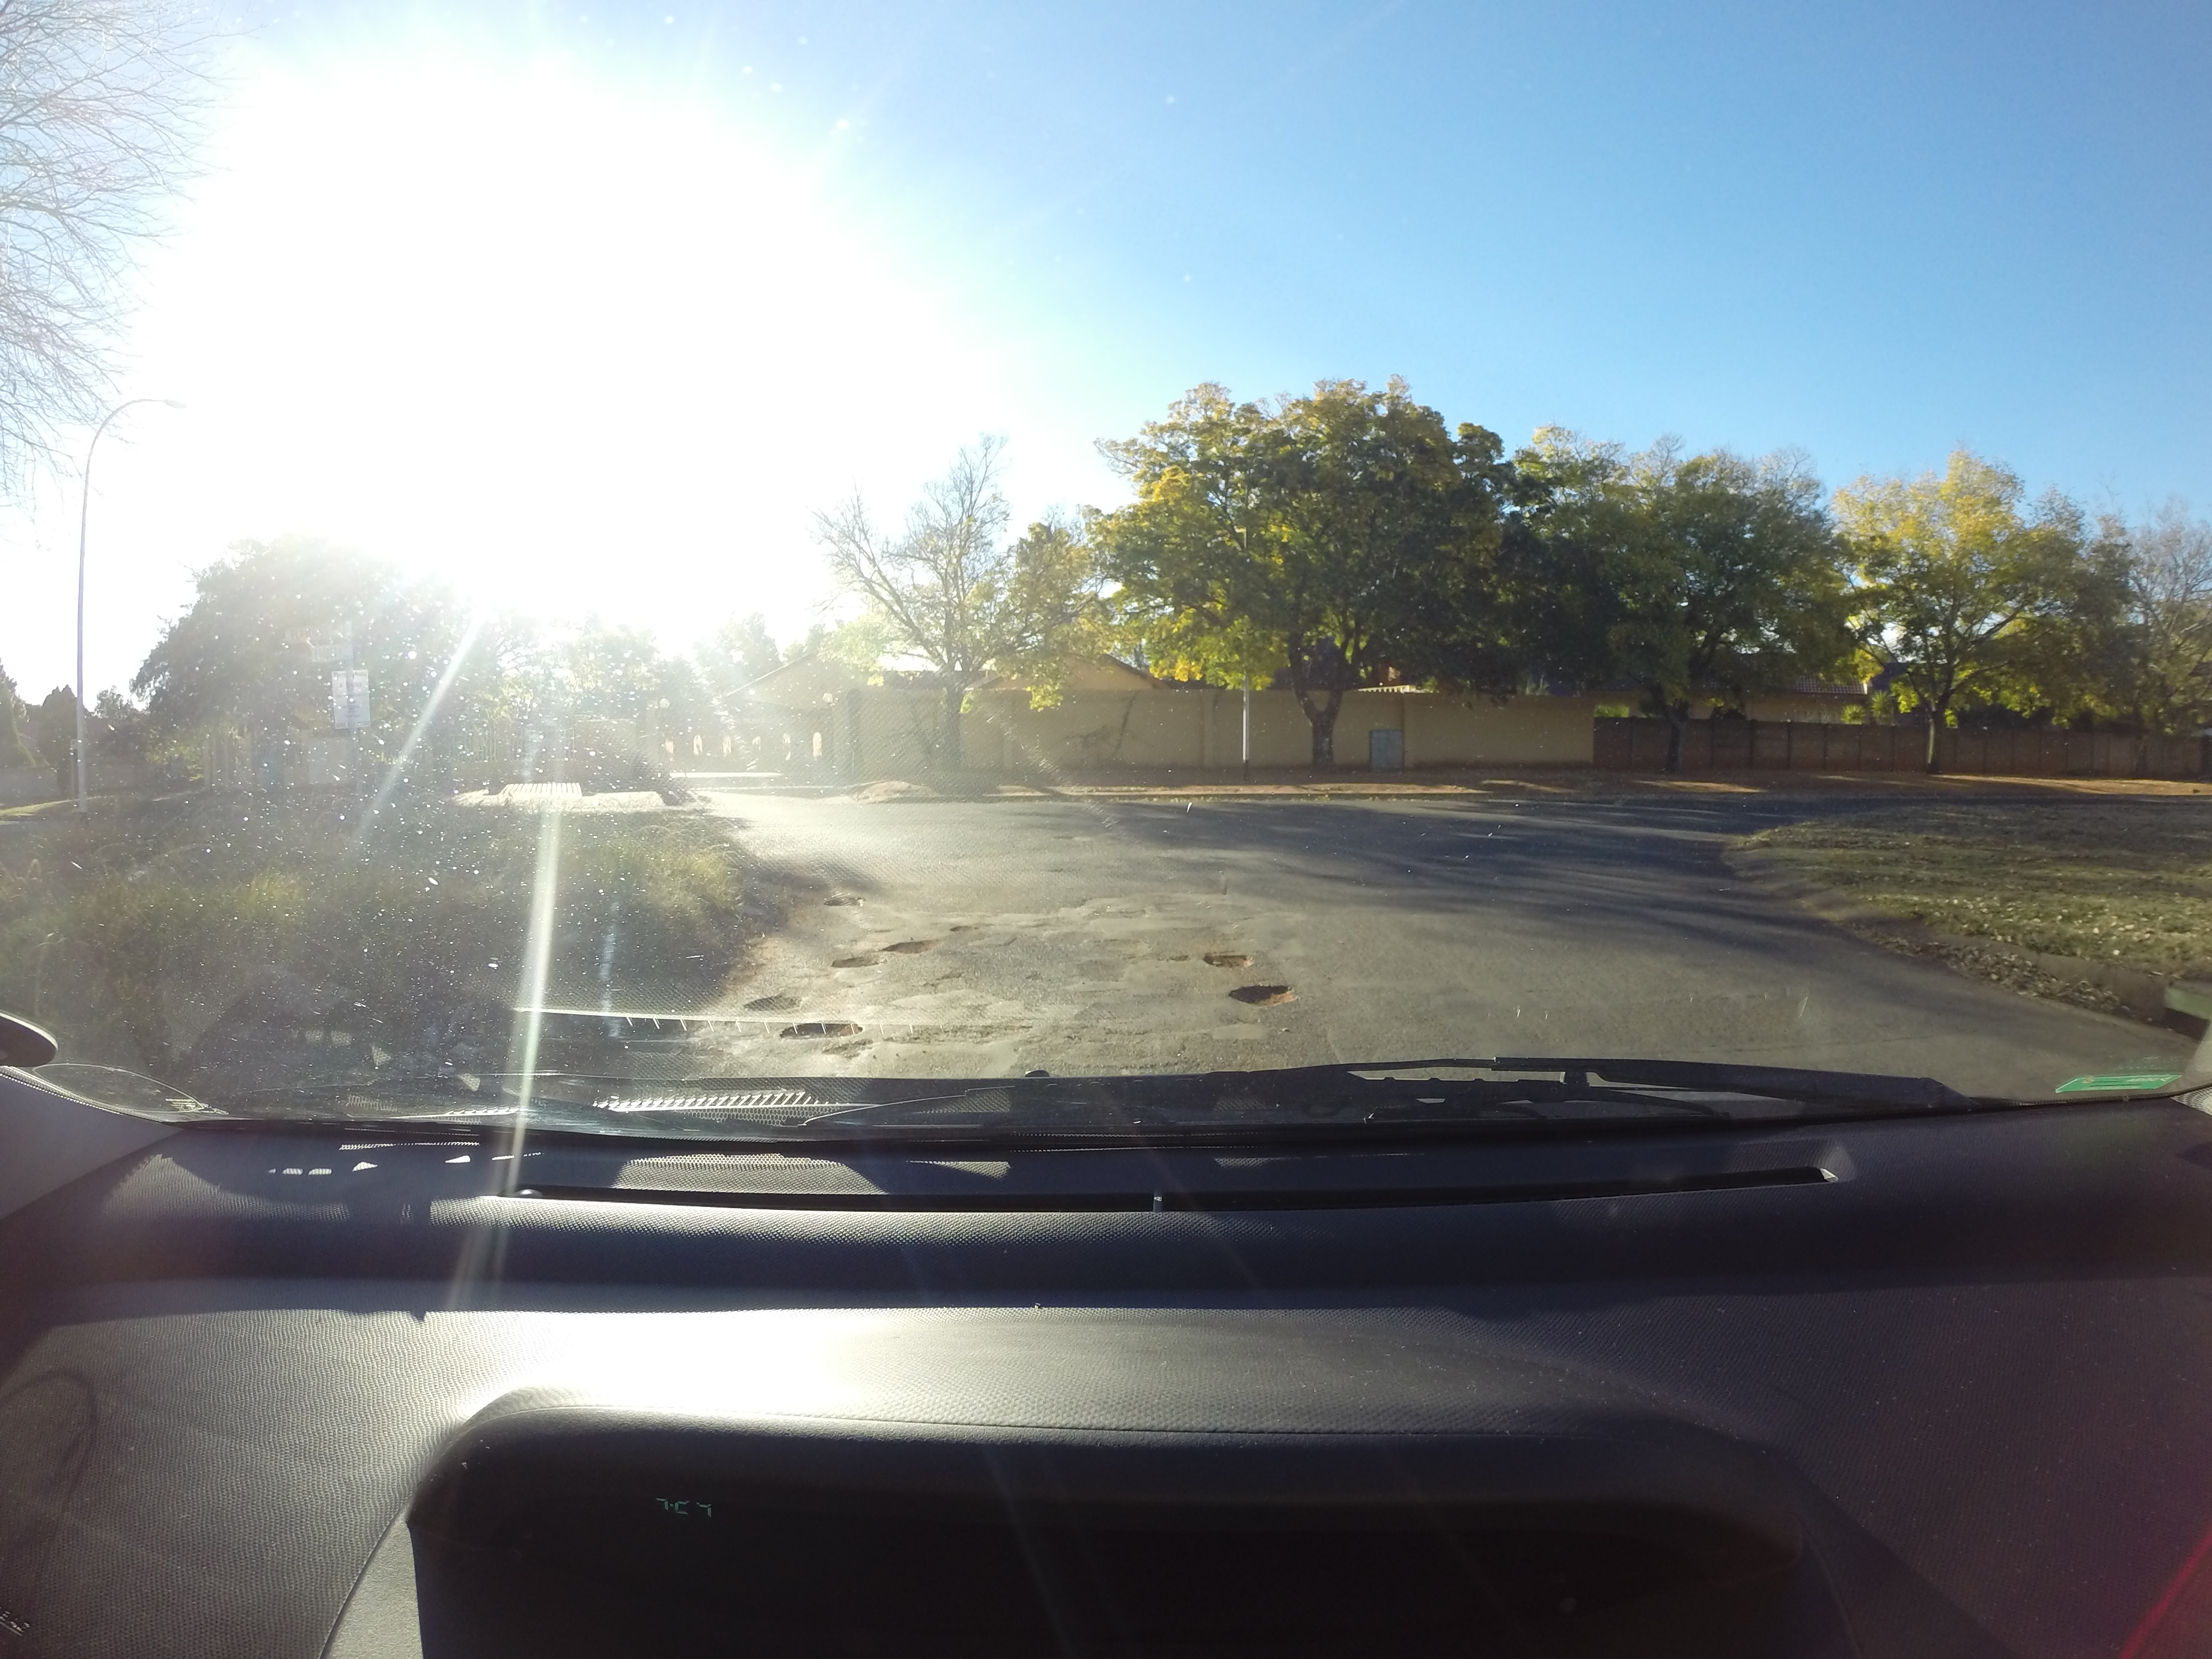pothole: (1174, 915, 1345, 1004), (738, 983, 864, 1061)
